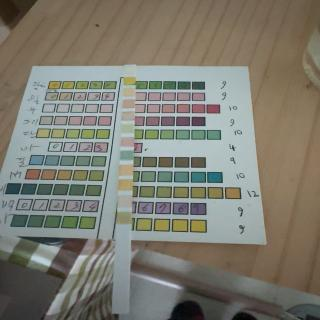mark: (118, 212, 131, 224), (120, 165, 133, 176), (118, 180, 132, 190), (118, 196, 130, 207), (120, 124, 133, 132), (121, 151, 133, 159), (122, 138, 134, 146), (122, 113, 134, 121), (123, 100, 135, 108), (124, 66, 135, 73), (124, 89, 134, 96), (125, 78, 135, 84)
